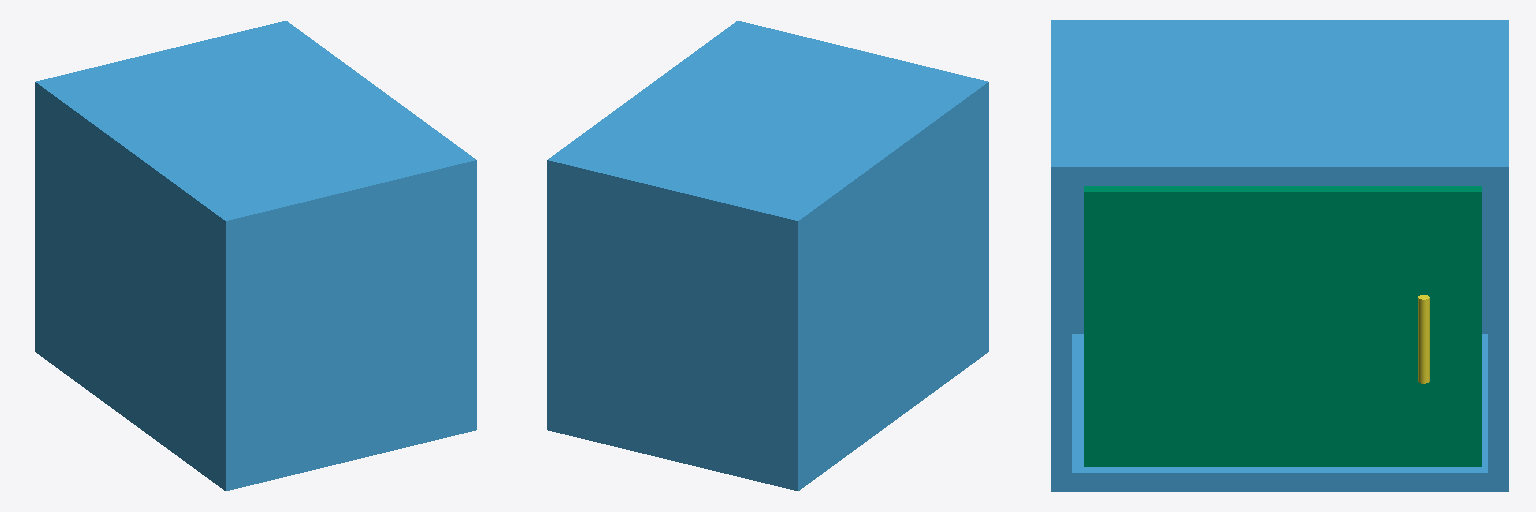
The robot description file, URDF, robot "my_cabinet":
<?xml version="1.0" ?>
<robot name="my_cabinet">
	<link name="world"/>
	<joint name="virtual_joint" type="fixed">
		<parent link="world"/>
		<child link="base_cabinet_link"/>
		<origin xyz="0.0 0.0 0.0" rpy="0.0 0.0 0.0"/>
	</joint>
	<link name="base_cabinet_link">
		<visual>
			<origin xyz="0.0 -0.0025 -0.14525773438060197" rpy="0.0 0.0 0.0"/>
			<geometry>
				<box size="0.3 0.39433780027492465 0.018"/>
			</geometry>
		</visual>
		<collision name="base_cabinet_link_collision_0">
			<origin xyz="0.0 -0.0025 -0.14525773438060197" rpy="0.0 0.0 0.0"/>
			<geometry>
				<box size="0.3 0.39433780027492465 0.018"/>
			</geometry>
		</collision>
		<visual>
			<origin xyz="0.0 0.18566890013746234 0.0" rpy="0.0 0.0 0.0"/>
			<geometry>
				<box size="0.3 0.018 0.30851546876120395"/>
			</geometry>
		</visual>
		<collision name="base_cabinet_link_collision_1">
			<origin xyz="0.0 0.18566890013746234 0.0" rpy="0.0 0.0 0.0"/>
			<geometry>
				<box size="0.3 0.018 0.30851546876120395"/>
			</geometry>
		</collision>
		<visual>
			<origin xyz="0.0 -0.19066890013746235 0.0" rpy="0.0 0.0 0.0"/>
			<geometry>
				<box size="0.3 0.018 0.30851546876120395"/>
			</geometry>
		</visual>
		<collision name="base_cabinet_link_collision_2">
			<origin xyz="0.0 -0.19066890013746235 0.0" rpy="0.0 0.0 0.0"/>
			<geometry>
				<box size="0.3 0.018 0.30851546876120395"/>
			</geometry>
		</collision>
		<visual>
			<origin xyz="0.0 -0.0025 0.14525773438060197" rpy="0.0 0.0 0.0"/>
			<geometry>
				<box size="0.3 0.39433780027492465 0.018"/>
			</geometry>
		</visual>
		<collision name="base_cabinet_link_collision_3">
			<origin xyz="0.0 -0.0025 0.14525773438060197" rpy="0.0 0.0 0.0"/>
			<geometry>
				<box size="0.3 0.39433780027492465 0.018"/>
			</geometry>
		</collision>
		<visual>
			<origin xyz="-0.141 -0.0025 0.0" rpy="0.0 0.0 0.0"/>
			<geometry>
				<box size="0.018 0.39433780027492465 0.30851546876120395"/>
			</geometry>
		</visual>
		<collision name="base_cabinet_link_collision_4">
			<origin xyz="-0.141 -0.0025 0.0" rpy="0.0 0.0 0.0"/>
			<geometry>
				<box size="0.018 0.39433780027492465 0.30851546876120395"/>
			</geometry>
		</collision>
		<inertial>
			<mass value="0.200000"/>
			<inertia ixx="0.004178" ixy="0.0" ixz="0.0" iyy="0.003086" iyz="0.0" izz="0.004092"/>
		</inertial>
	</link>
	<link name="door_link">
		<visual>
			<origin xyz="0.0 -0.17166890013746233 0.0"/>
			<geometry>
				<box size="0.018 0.34333780027492466 0.2625154687612039"/>
			</geometry>
		</visual>
		<collision name="door_link_collision">
			<origin xyz="0.0 -0.17166890013746233 0.0"/>
			<geometry>
				<box size="0.018 0.34333780027492466 0.2625154687612039"/>
			</geometry>
		</collision>
		<inertial>
			<mass value="0.200000"/>
			<inertia ixx="0.003113" ixy="0.0" ixz="0.0" iyy="0.001154" iyz="0.0" izz="0.001970"/>
		</inertial>
	</link>
	<joint name="door_joint" type="revolute">
		<origin xyz="0.141 -0.17166890013746233 0.0" rpy="0.000000 -0.000000 3.141593"/>
		<axis xyz="0 0 1"/>
		<parent link="base_cabinet_link"/>
		<child link="door_link"/>
		<limit effort="50" lower="-1.658062789394613" upper="0" velocity="10"/>
		<dynamics friction="3.5" damping="3.5"/>
	</joint>
	<link name="handle_link">
		<visual>
			<origin xyz="0.0 0.0 0.0" rpy="0.0 0.0 0.0"/>
			<geometry>
				<cylinder length="0.08" radius="0.005"/>
			</geometry>
		</visual>
		<collision name="handle_link_collision_0">
			<origin xyz="0.0 0.0 0.0" rpy="0.0 0.0 0.0"/>
			<geometry>
				<cylinder length="0.08" radius="0.005"/>
			</geometry>
		</collision>
		<visual>
			<origin xyz="-0.01 0.0 0.02" rpy="0.0 1.5707963267948966 0.0"/>
			<geometry>
				<cylinder length="0.02" radius="0.003"/>
			</geometry>
		</visual>
		<collision name="handle_link_collision_1">
			<origin xyz="-0.01 0.0 0.02" rpy="0.0 1.5707963267948966 0.0"/>
			<geometry>
				<cylinder length="0.01" radius="0.003"/>
			</geometry>
		</collision>
		<visual>
			<origin xyz="-0.01 0.0 -0.02" rpy="0.0 1.5707963267948966 0.0"/>
			<geometry>
				<cylinder length="0.02" radius="0.003"/>
			</geometry>
		</visual>
		<collision name="handle_link_collision_2">
			<origin xyz="-0.01 0.0 -0.02" rpy="0.0 1.5707963267948966 0.0"/>
			<geometry>
				<cylinder length="0.02" radius="0.003"/>
			</geometry>
		</collision>
		<inertial>
			<mass value="0.050000"/>
			<inertia ixx="0.000027" ixy="0.0" ixz="0.0" iyy="0.000029" iyz="0.0" izz="0.000003"/>
		</inertial>
	</link>
	<joint name="handle_joint" type="fixed">
		<origin xyz="-0.028999999999999998 -0.2933378002749247 0.0" rpy="0.000000 -0.000000 3.141593"/>
		<parent link="door_link"/>
		<child link="handle_link"/>
	</joint>
	<gazebo reference="base_cabinet_link">
		<sensor name="main_sensor" type="contact">
			<selfCollide>true</selfCollide>
			<alwaysOn>true</alwaysOn>
			<updateRate>5.0</updateRate>
			<material>Gazebo/Red</material>
			<contact>
				<collision>base_cabinet_link_collision_0_collision</collision>
				<collision>base_cabinet_link_collision_1_collision</collision>
				<collision>base_cabinet_link_collision_2_collision</collision>
				<collision>base_cabinet_link_collision_3_collision</collision>
				<collision>base_cabinet_link_collision_4_collision</collision>
			</contact>
			<plugin name="gazebo_ros_bumper_controller" filename="libgazebo_ros_bumper.so">
				<bumperTopicName>/contact</bumperTopicName>
				<frameName>world</frameName>
			</plugin>
		</sensor>
	</gazebo>
	<gazebo reference="door_link">
		<sensor name="main_sensor" type="contact">
			<selfCollide>true</selfCollide>
			<alwaysOn>true</alwaysOn>
			<updateRate>5.0</updateRate>
			<material>Gazebo/Red</material>
			<contact>
				<collision>door_link_collision_collision</collision>
			</contact>
			<plugin name="gazebo_ros_bumper_controller" filename="libgazebo_ros_bumper.so">
				<bumperTopicName>/contact_door</bumperTopicName>
				<frameName>contact_door</frameName>
			</plugin>
		</sensor>
	</gazebo>
	<gazebo reference="door_link">
		<mu>3.0</mu>
		<mu2>3.0</mu2>
		<kp>10000000</kp>
		<kd>100</kd>
	</gazebo>
</robot>

--- Render facts (derived) ---
The picture shows the robot from 3 angles, left to right: view 1: azimuth 30°, elevation 25°; view 2: azimuth 150°, elevation 25°; view 3: azimuth 270°, elevation 25°; orthographic projection.
Robot: my_cabinet — 4 links, 3 joints (1 revolute, 2 fixed); root link world; default pose: all joints at 0.
Links seen in each view (by area): view 1: base_cabinet_link; view 2: base_cabinet_link; view 3: door_link, base_cabinet_link, handle_link.
Boxes of the visible links, <box> form: base_cabinet_link: <box>35,21,476,490</box>; base_cabinet_link: <box>547,21,988,490</box>; door_link: <box>1084,186,1481,466</box>; base_cabinet_link: <box>1051,20,1508,491</box>; handle_link: <box>1418,295,1429,383</box>.
Bounding box of the posed robot: 0.325 × 0.3943 × 0.3085 m (x, y, z).
Geometry: primitives only (box / cylinder / sphere), no mesh files.
